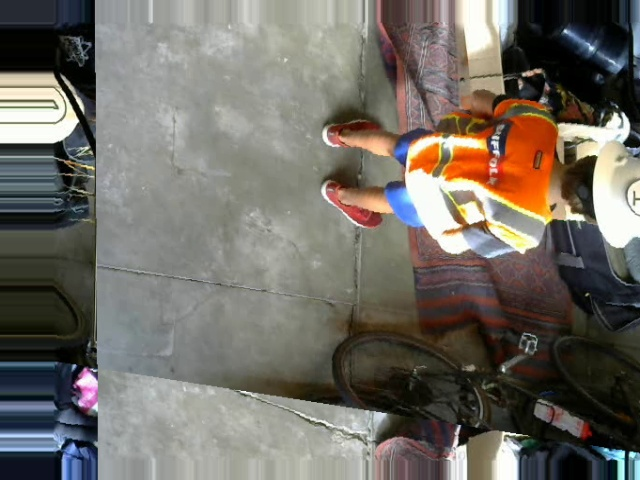one: (626, 175, 639, 219)
